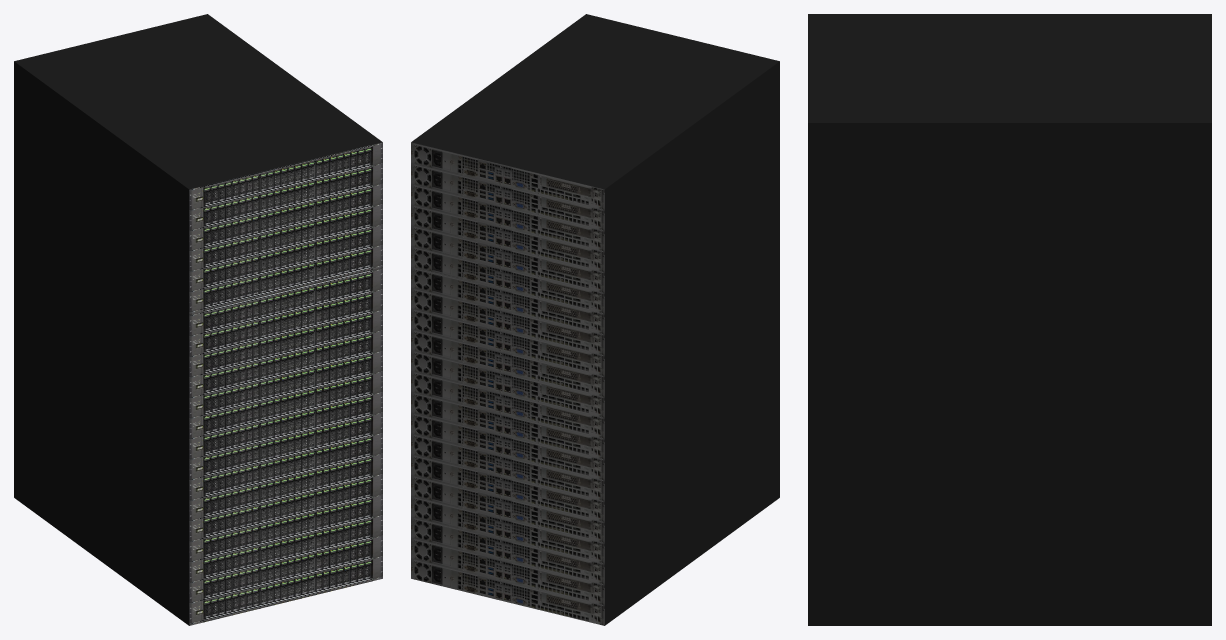
File: CDR21.fbx
3 renders of one model, left to right at view 1: azimuth 30°, elevation 25°; view 2: azimuth 150°, elevation 25°; view 3: azimuth 270°, elevation 25°, orthographic. The views are drawn at different scales.
Parts seen in each view (by area): view 1: CDR21; view 2: CDR21; view 3: CDR21.
Boxes of the visible parts, bbox=[...] form: CDR21: bbox=[14, 14, 382, 625]; CDR21: bbox=[411, 14, 779, 625]; CDR21: bbox=[808, 14, 1211, 625].
Size of the model in its own units: 434 by 934 by 680.
Materials: 3 (2 with a texture image).
